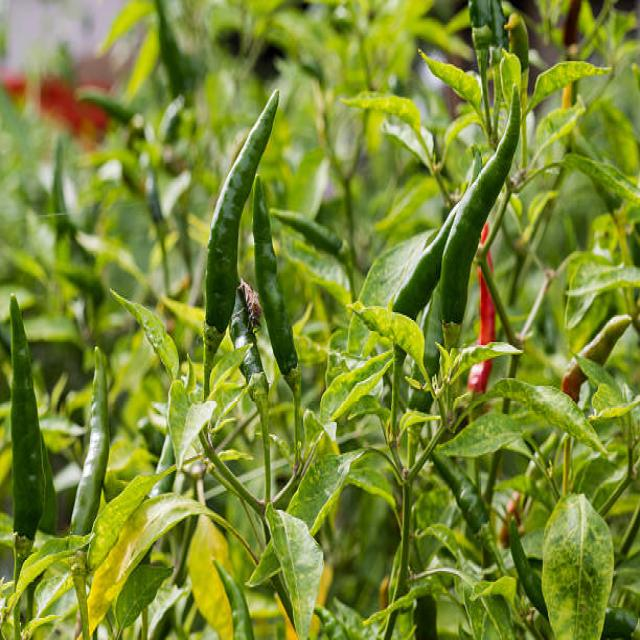Half-Ripe: (558, 316, 632, 394)
Unripe: (421, 92, 520, 375), (204, 90, 278, 397), (252, 176, 299, 378), (10, 294, 45, 541), (392, 204, 458, 318), (71, 347, 109, 535), (433, 454, 489, 533), (510, 521, 548, 620), (214, 559, 254, 640), (230, 289, 264, 382)
